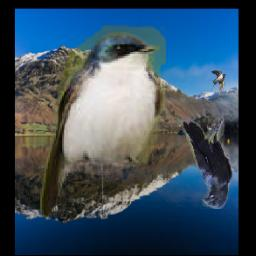Crow: (182, 118, 233, 210)
Swallow: (40, 25, 166, 218), (206, 70, 226, 95)
